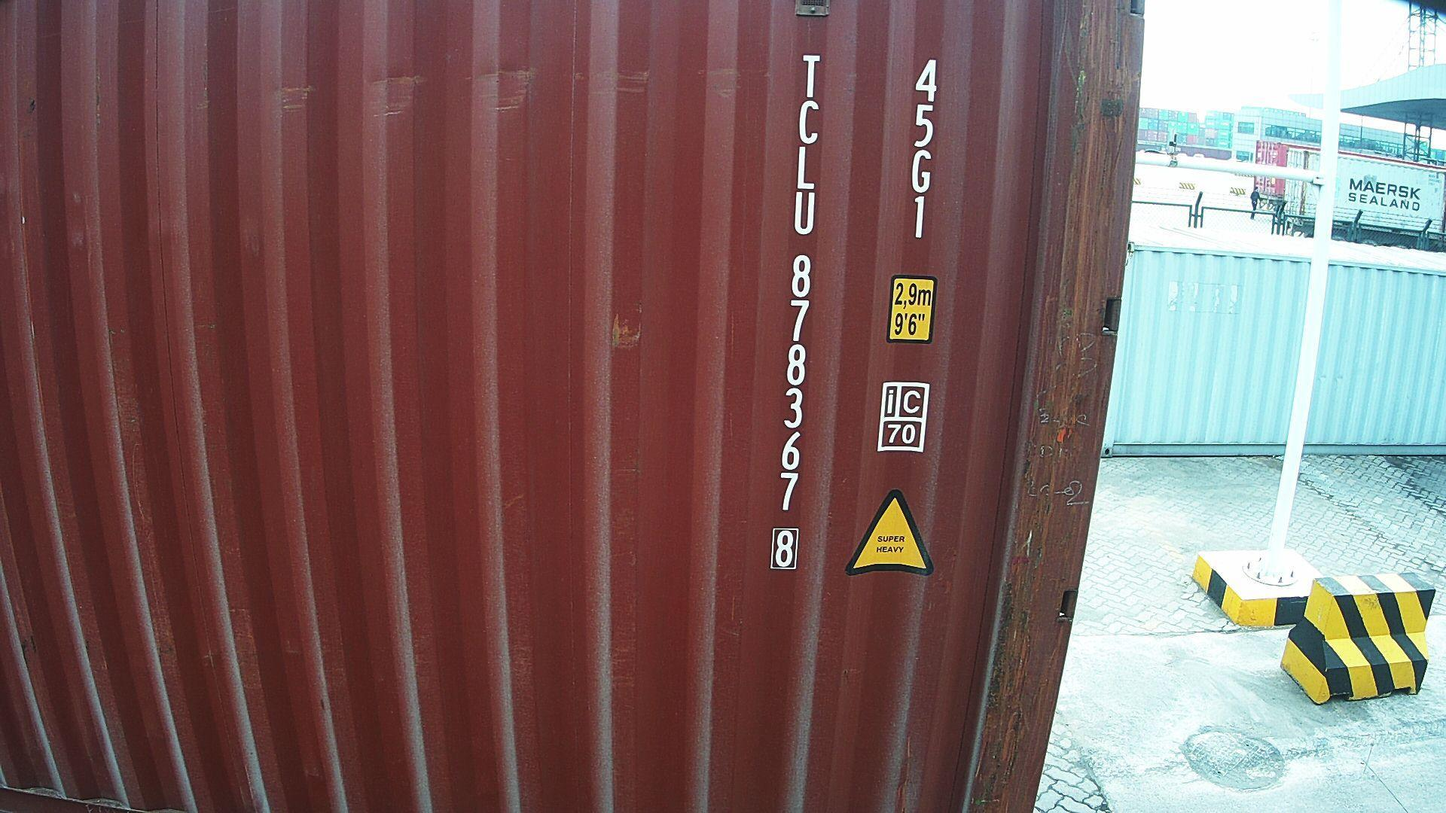container-numbers: (767, 46, 826, 576), (901, 54, 944, 245)
